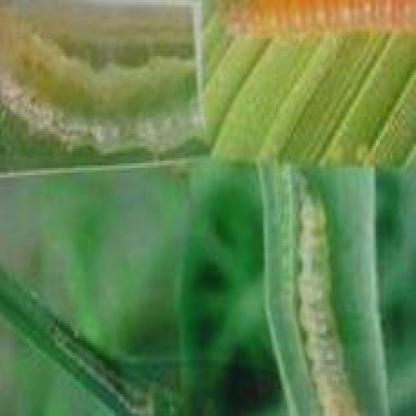leaf-folder: (0, 0, 206, 158), (281, 172, 372, 416), (31, 303, 169, 416), (212, 0, 416, 63)
